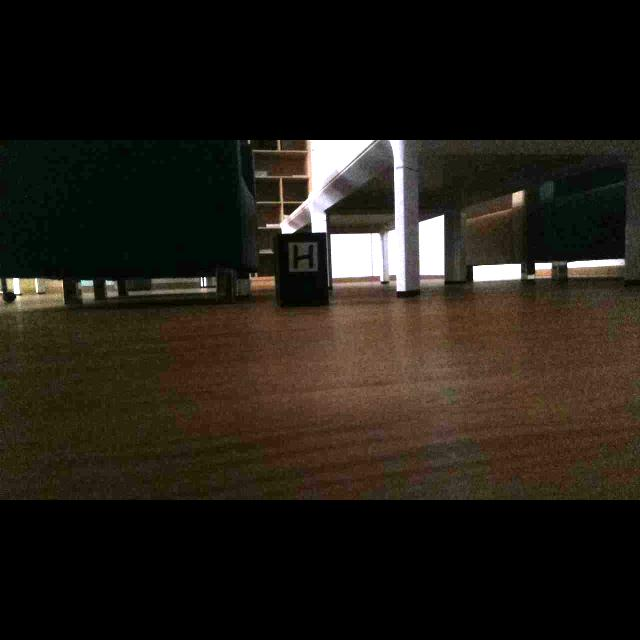H: (294, 245, 313, 270)
